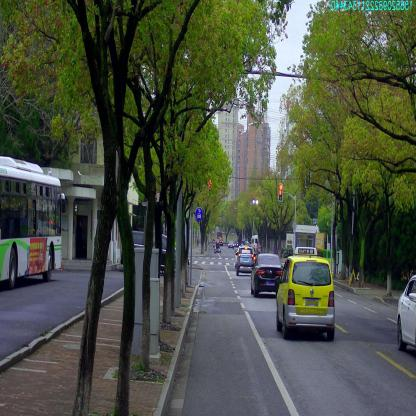traffic-light: (279, 183, 283, 201), (209, 180, 212, 194)
